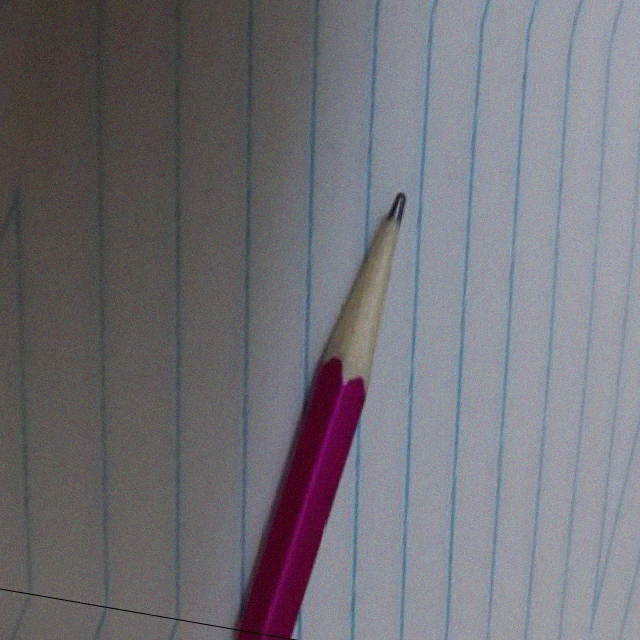pencil: (316, 176, 431, 399)
